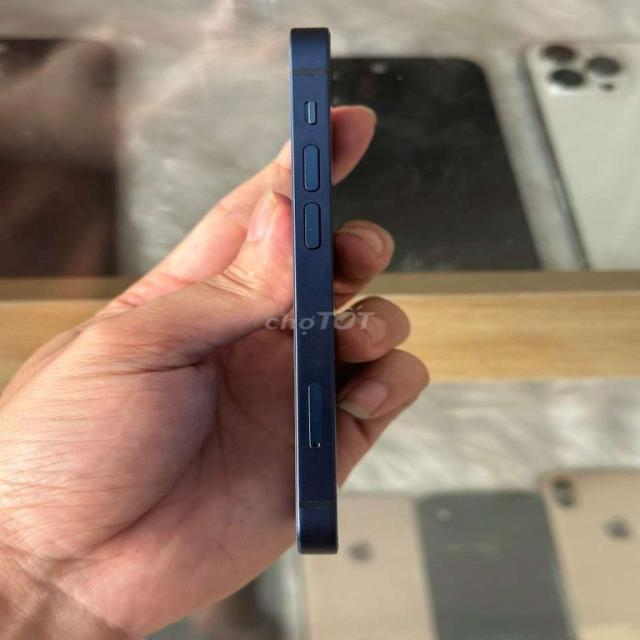gen_12_13: (265, 13, 404, 560)
